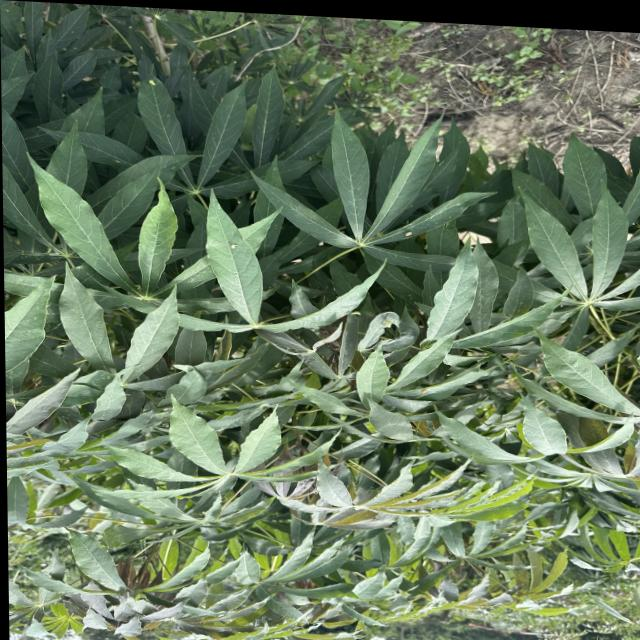Mosca: (377, 316, 398, 333), (140, 72, 160, 89), (400, 220, 417, 240), (221, 240, 242, 253)
